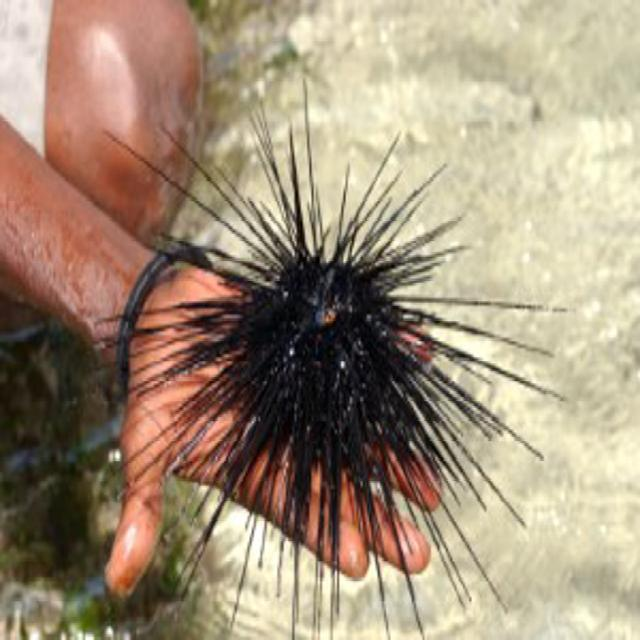Urchin: (108, 81, 569, 614)
